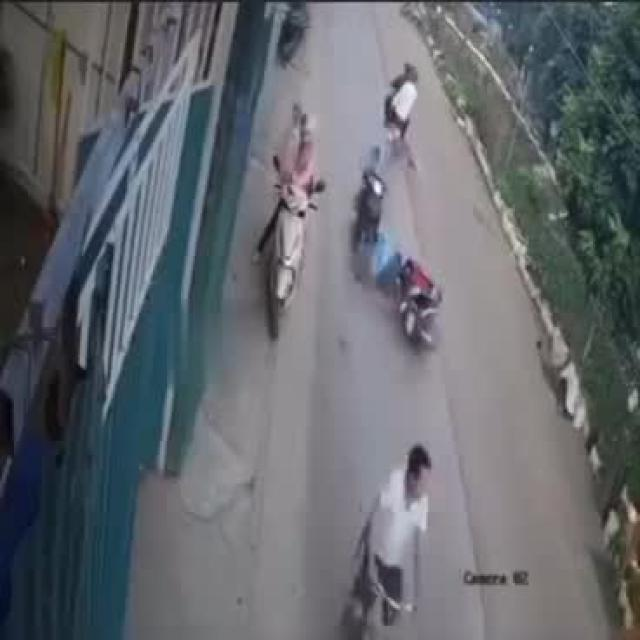multiple_accident: (348, 132, 453, 365)
normal: (339, 421, 444, 640), (250, 93, 319, 346), (371, 54, 431, 150)
